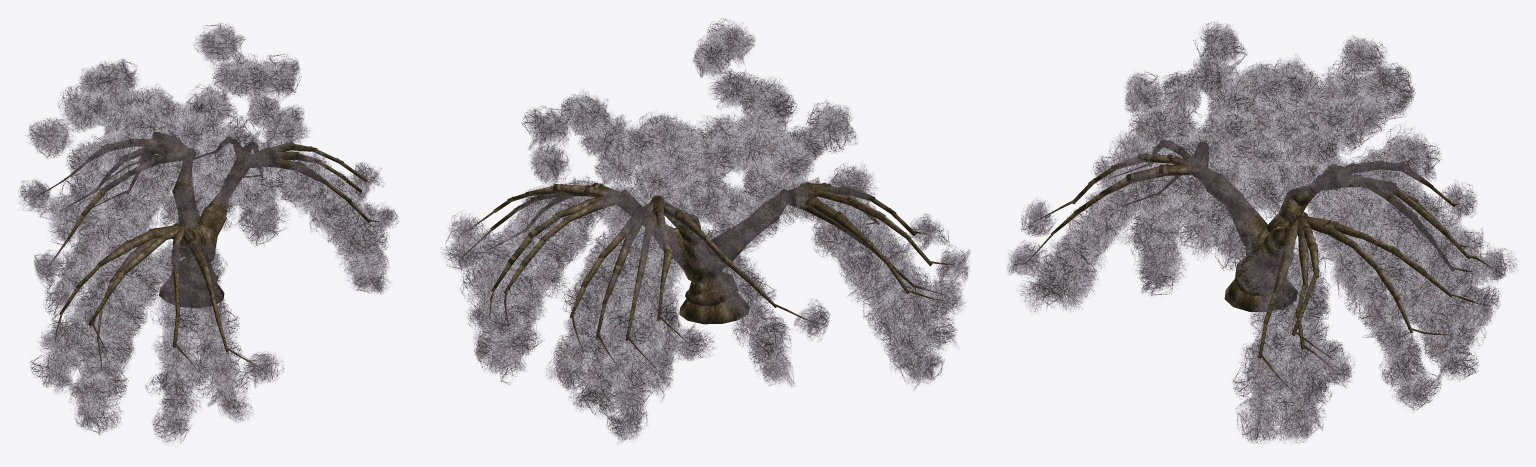
Rendered from blossom_7.glb.
3 renders of one model, left to right at view 1: azimuth 30°, elevation 25°; view 2: azimuth 150°, elevation 25°; view 3: azimuth 270°, elevation 25°, orthographic. The views are drawn at different scales.
Visible parts, largest first — view 1: blossom; view 2: blossom; view 3: blossom.
Boxes of the visible parts, x1=… form: blossom: x1=19, y1=23, x2=398, y2=443; blossom: x1=441, y1=18, x2=970, y2=443; blossom: x1=1006, y1=22, x2=1518, y2=443.
Size of the model in its own units: 32.86 by 22.6 by 31.69.
Materials: 2 (2 with a texture image).
